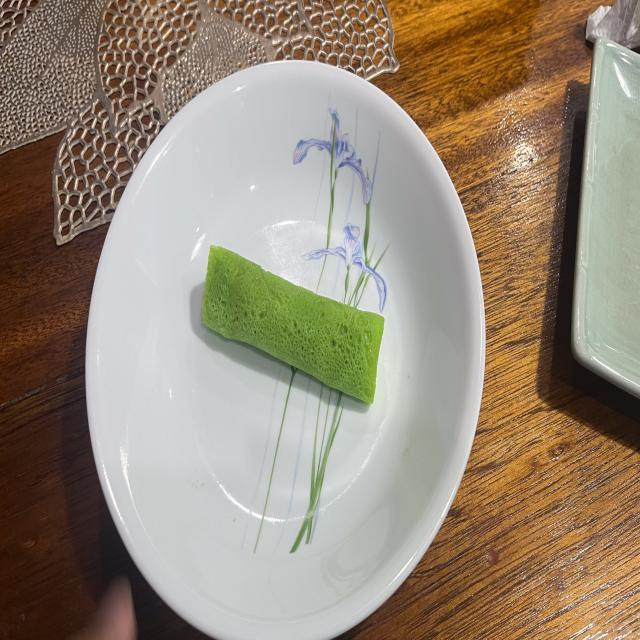Kuih-Ketayap: (202, 244, 384, 404)
